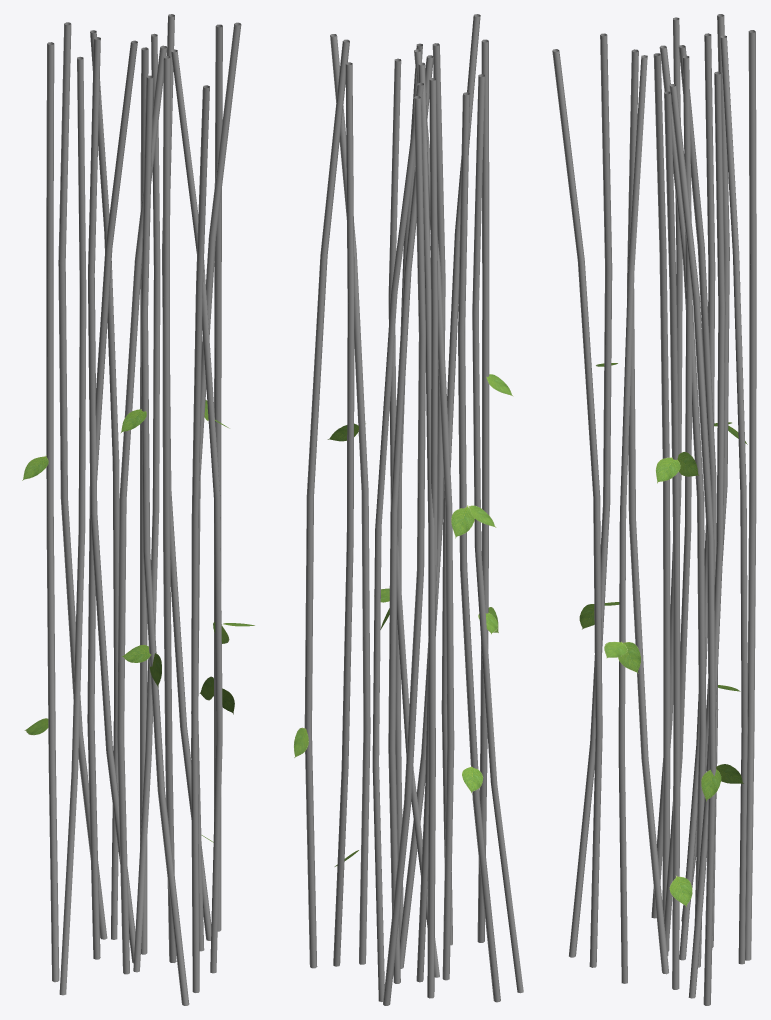
File: forest_vines_01_mesh.fbx
The picture shows the model from 3 angles, left to right: view 1: azimuth 30°, elevation 25°; view 2: azimuth 150°, elevation 25°; view 3: azimuth 270°, elevation 25°; orthographic projection.
Visible parts, largest first — view 1: forest_vines_01_mesh; view 2: forest_vines_01_mesh; view 3: forest_vines_01_mesh.
Boxes of the visible parts, x1,y1,x2,y2 form: forest_vines_01_mesh: [22, 14, 254, 1005]; forest_vines_01_mesh: [294, 14, 523, 1005]; forest_vines_01_mesh: [552, 14, 756, 1005].
Size of the model in its own units: 98.88 by 410 by 83.37.
